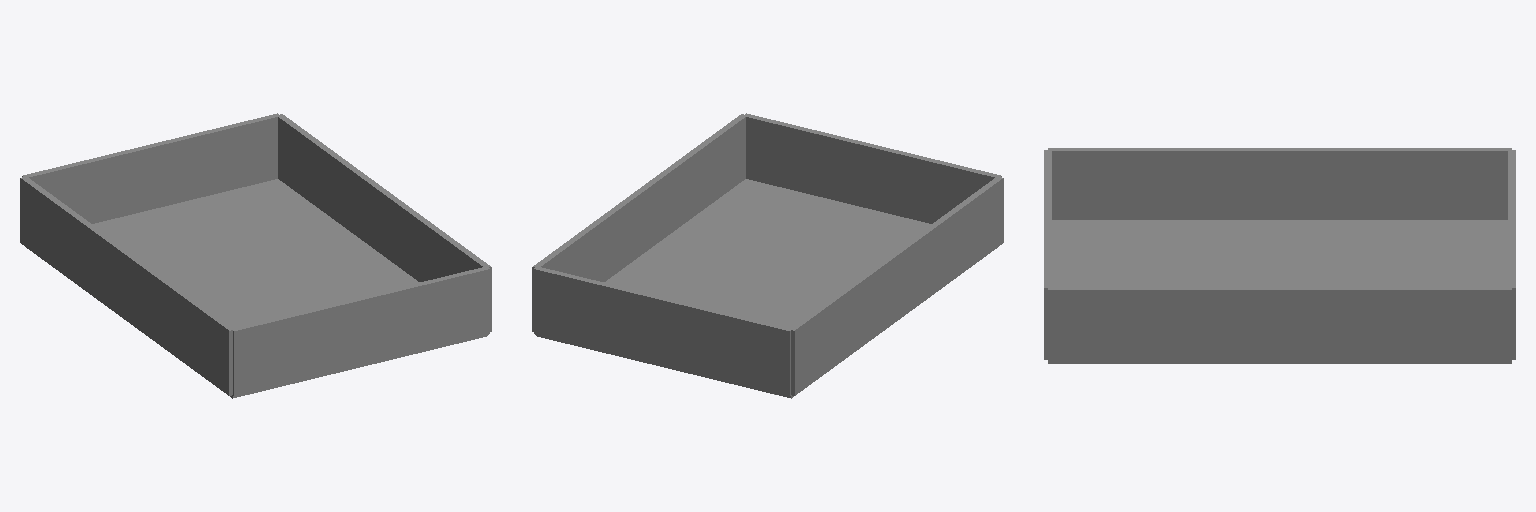
The robot description file, URDF, robot "bin":
<robot name="bin">
  <link name="bin_body">
    <inertial>
      <origin xyz="0 0 0" rpy="0 0 0" />
      <mass value="1.0" />
      <inertia ixx="0.05" ixy="0.0" ixz="0.0" iyy="0.05" iyz="0.0" izz="0.05" />
    </inertial>
    <collision>
      <origin xyz="0 0 -.085" />
      <geometry>
        <box size="0.41 0.58 0.01" />
      </geometry>
    </collision>
    <visual>
      <origin xyz="0 0 -.085" />
      <material name="c">
        <color rgba="0.6 0.6 0.6 1.0" />
      </material>
      <geometry>
        <box size="0.41 0.58 0.01" />
      </geometry>
    </visual>
    <collision>
      <origin xyz="0.205 0 -0.035" />
      <geometry>
        <box size="0.01 0.58 0.10" />
      </geometry>
    </collision>
    <visual>
      <origin xyz="0.205 0 -0.035" />
      <material name="c">
        <color rgba="0.6 0.6 0.6 1.0" />
      </material>
      <geometry>
        <box size="0.01 0.58 0.10" />
      </geometry>
    </visual>
    <collision>
      <origin xyz="-0.205 0 -0.035" />
      <geometry>
        <box size="0.01 0.58 0.10" />
      </geometry>
    </collision>
    <visual>
      <origin xyz="-0.205 0 -0.035" />
      <material name="c">
        <color rgba="0.6 0.6 0.6 1.0" />
      </material>
      <geometry>
        <box size="0.01 0.58 0.10" />
      </geometry>
    </visual>
    <collision>
      <origin xyz="0 0.29 -0.035" />
      <geometry>
        <box size="0.41 0.01 0.10" />
      </geometry>
    </collision>
    <visual>
      <origin xyz="0 0.29 -0.035" />
      <material name="c">
        <color rgba="0.6 0.6 0.6 1.0" />
      </material>
      <geometry>
        <box size="0.41 0.01 0.10" />
      </geometry>
    </visual>
    <collision>
      <origin xyz="0 -0.29 -0.035" />
      <geometry>
        <box size="0.41 0.01 0.10" />
      </geometry>
    </collision>
    <visual>
      <origin xyz="0 -0.29 -0.035" />
      <material name="c">
        <color rgba="0.6 0.6 0.6 1.0" />
      </material>
      <geometry>
        <box size="0.41 0.01 0.10" />
      </geometry>
    </visual>
  </link>
</robot>

--- Facts derived from the render (not from the file) ---
The picture shows the robot from 3 angles, left to right: view 1: azimuth 30°, elevation 25°; view 2: azimuth 150°, elevation 25°; view 3: azimuth 270°, elevation 25°; orthographic projection.
Robot: bin — 1 links, 0 joints (none); root link bin_body; default pose: all joints at 0.
Links seen in each view (by area): view 1: bin_body; view 2: bin_body; view 3: bin_body.
Link boxes in pixels (left/top/right/bottom): bin_body: left=20, top=113, right=491, bottom=398; bin_body: left=532, top=113, right=1003, bottom=398; bin_body: left=1044, top=148, right=1515, bottom=363.
Bounding box of the posed robot: 0.42 × 0.59 × 0.105 m (x, y, z).
Geometry: primitives only (box / cylinder / sphere), no mesh files.
